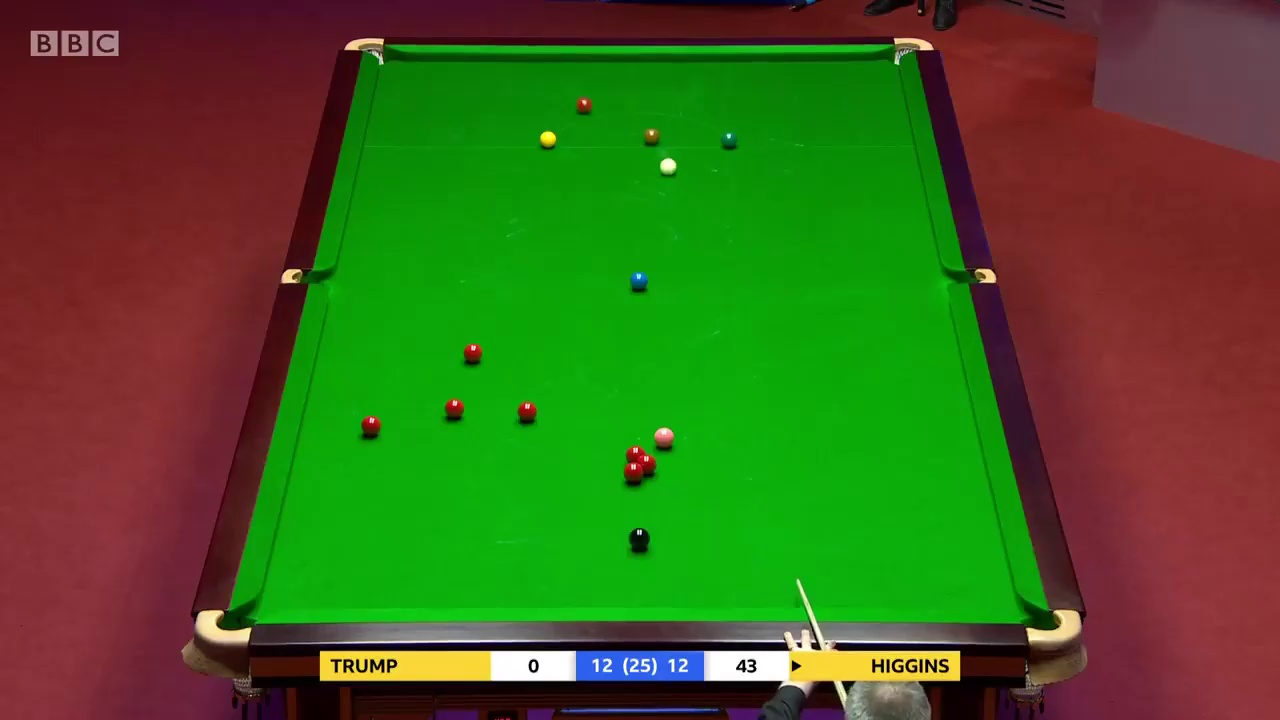ball: (629, 527, 652, 552), (649, 424, 673, 447), (516, 399, 537, 422), (627, 271, 651, 291), (359, 415, 380, 437), (625, 461, 646, 483), (464, 343, 484, 364), (445, 398, 463, 420), (656, 156, 678, 173), (573, 96, 593, 114), (538, 131, 556, 147), (719, 130, 735, 146), (644, 128, 660, 142)
